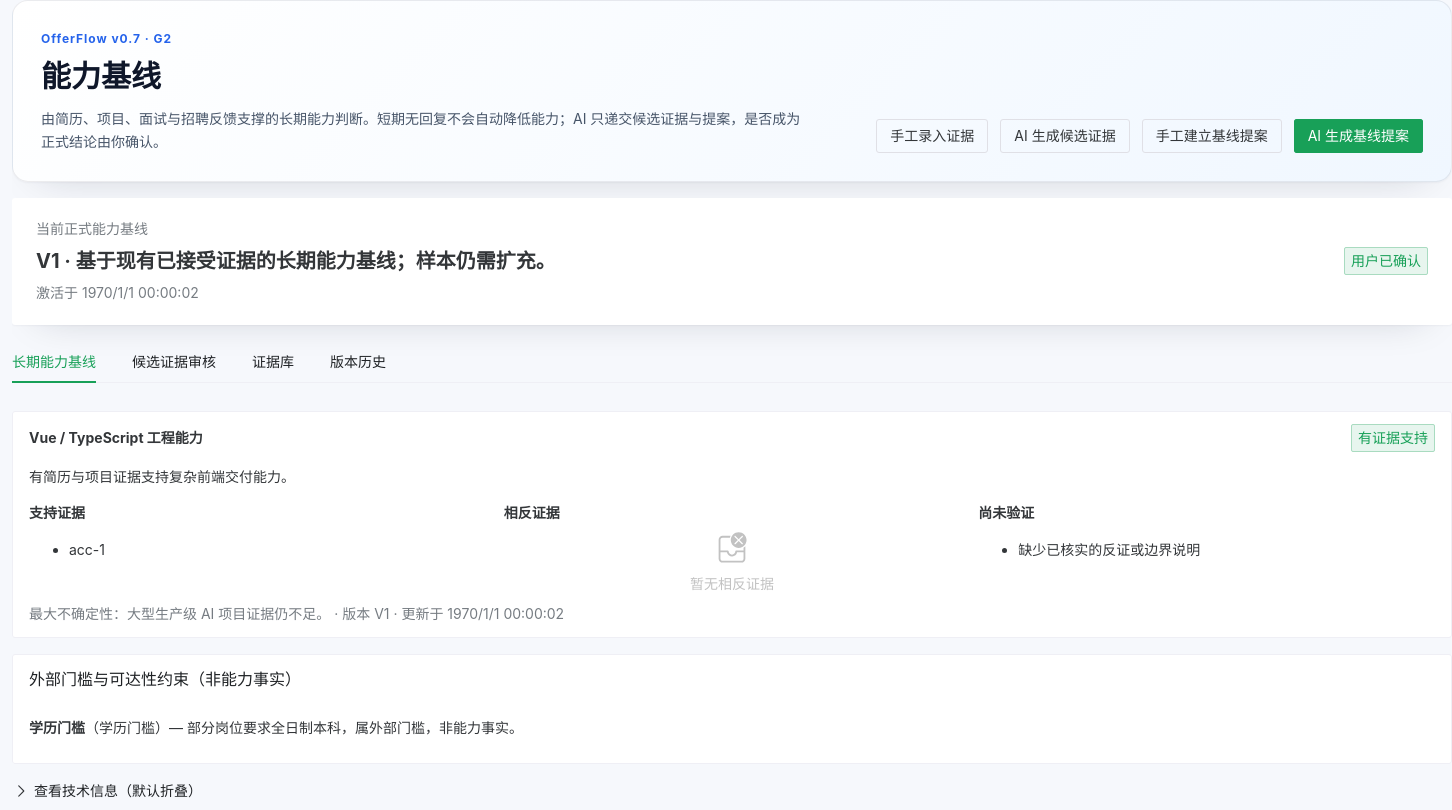
Test: CapabilityBaselinePage · 路由与页面 › 版本历史展示当前正式版本
This screenshot has width=1452, height=810.
Click the element with class "n-tabs-tab" showing "版本历史" at (358, 361), box [330,353,386,370]
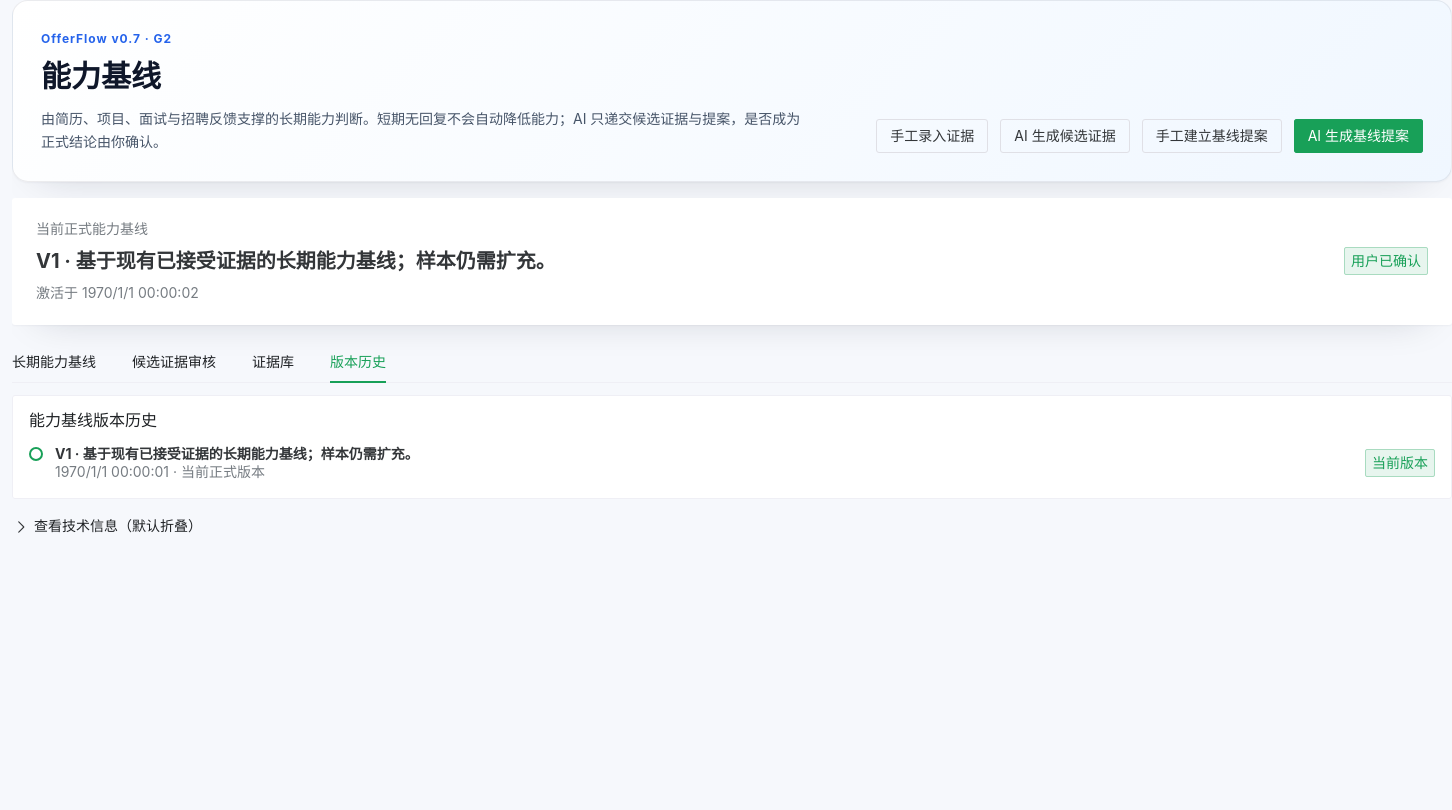
Expected: the element with test id "cb-version-v1" is shown, [29,445,1435,486]
